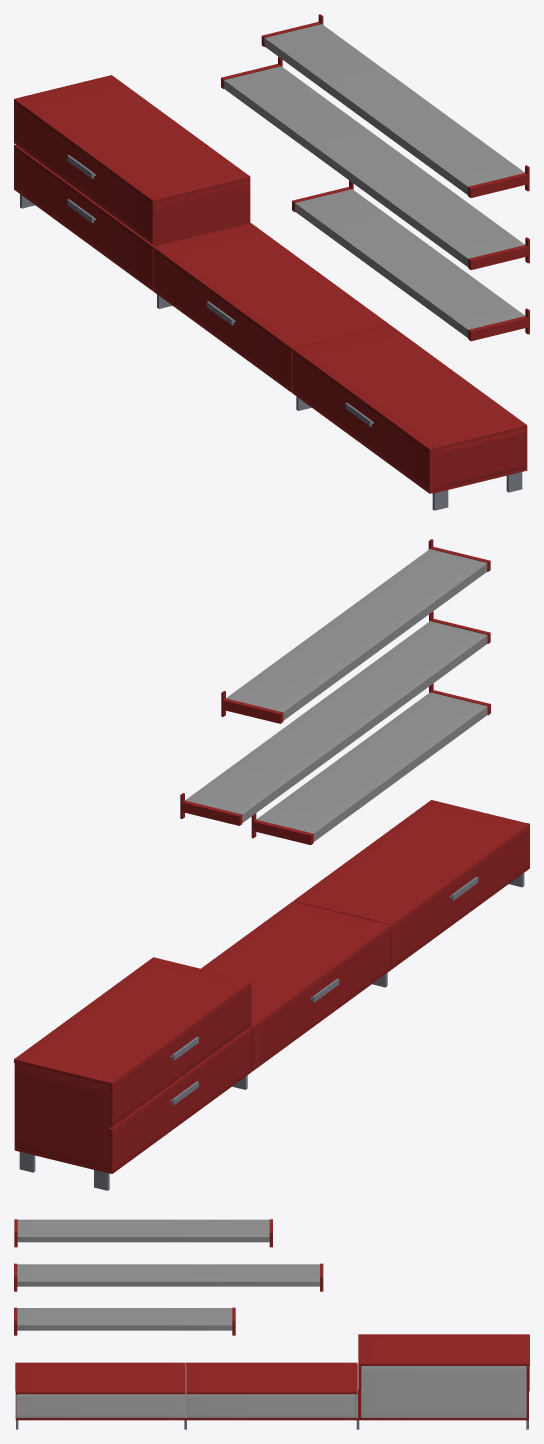
Rendered from libreria.obj.
The picture shows the model from 3 angles, top to bottom: view 1: azimuth 30°, elevation 25°; view 2: azimuth 150°, elevation 25°; view 3: azimuth 270°, elevation 25°; orthographic projection. The views are drawn at different scales.
Parts seen in each view (by area): view 1: Parallel21, Parallele1, Parallel22, Parallel17, Parallel13, Parallel20, Parallele3, Parallel16, Parallel11, Parallele2, Parallele4, Parallel14 (+3 smaller); view 2: Parallel21, Parallele1, Parallel22, Parallel17, Parallel20, Parallel13, Parallele5, Parallele3, Parallel11, Parallel16, Parallele2, Parallel34 (+2 smaller); view 3: Parallele6, Parallel21, Parallel22, Parallel13, Parallel17, Parallele1, Parallel20, Parallel31, Parallel32, Parallelep, Parallele7, Parallel18 (+3 smaller).
Part boxes in pixels (left/top/right/bottom): Parallel21: left=224, top=66, right=524, bottom=266; Parallele1: left=17, top=75, right=250, bottom=202; Parallel22: left=264, top=24, right=524, bottom=194; Parallel17: left=296, top=325, right=527, bottom=451; Parallel13: left=157, top=223, right=389, bottom=347; Parallel20: left=295, top=189, right=524, bottom=337; Parallele3: left=14, top=98, right=155, bottom=244; Parallel16: left=292, top=348, right=432, bottom=493; Parallel11: left=153, top=246, right=294, bottom=392; Parallele2: left=14, top=144, right=155, bottom=290; Parallele4: left=154, top=180, right=250, bottom=246; Parallel14: left=433, top=429, right=527, bottom=490; Parallel21: left=185, top=621, right=487, bottom=822; Parallele1: left=14, top=957, right=247, bottom=1085; Parallel22: left=226, top=549, right=487, bottom=720; Parallel17: left=294, top=800, right=525, bottom=924; Parallel20: left=256, top=692, right=487, bottom=841; Parallel13: left=201, top=901, right=387, bottom=1023; Parallele5: left=14, top=1063, right=110, bottom=1169; Parallele3: left=109, top=980, right=251, bottom=1127; Parallel11: left=250, top=924, right=391, bottom=1071; Parallel16: left=388, top=823, right=529, bottom=969; Parallele2: left=109, top=1027, right=251, bottom=1173; Parallel34: left=251, top=813, right=313, bottom=844; Parallele6: left=361, top=1366, right=526, bottom=1417; Parallel21: left=17, top=1264, right=319, bottom=1286; Parallel22: left=17, top=1219, right=269, bottom=1242; Parallel13: left=186, top=1363, right=357, bottom=1394; Parallel17: left=15, top=1363, right=185, bottom=1394; Parallele1: left=358, top=1335, right=529, bottom=1365; Parallel20: left=17, top=1308, right=232, bottom=1330; Parallel31: left=187, top=1394, right=355, bottom=1417; Parallel32: left=16, top=1394, right=184, bottom=1417; Parallelep: left=358, top=1390, right=528, bottom=1420; Parallele7: left=187, top=1390, right=358, bottom=1420; Parallel18: left=15, top=1418, right=186, bottom=1420.
Size of the model in its own units: 60.08 by 179 by 420.
